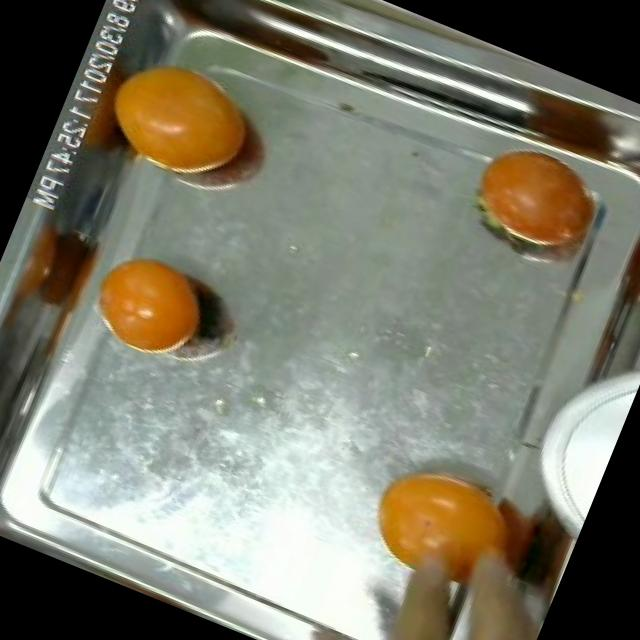Fruit: (340, 428, 562, 624), (85, 32, 276, 206), (438, 122, 626, 294), (70, 229, 235, 381)
